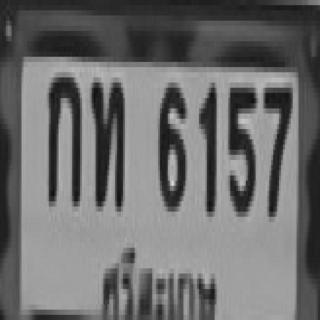A01: (47, 72, 80, 201)
A23: (90, 77, 123, 206)
N01: (197, 80, 214, 209)
N05: (226, 82, 254, 212)
N06: (156, 77, 183, 206)
N07: (261, 82, 291, 212)
P59: (98, 232, 220, 320)
